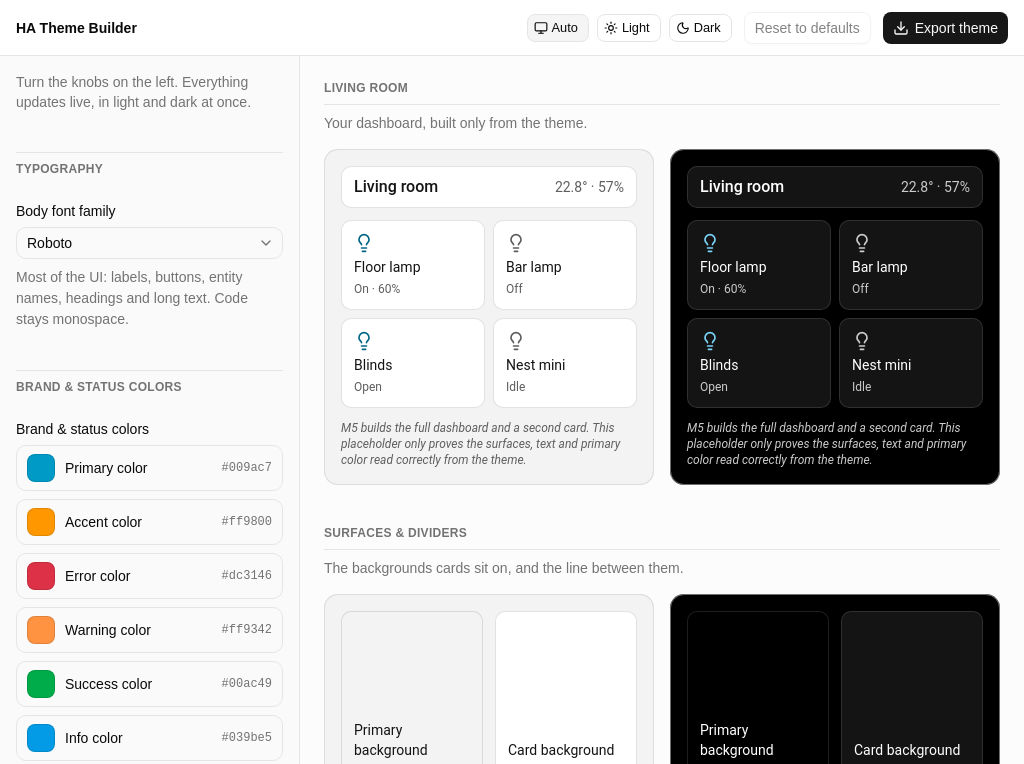
Test: App › opening the export sheet shows the default theme name
Click the button "Export theme" at point(945, 28), box [883,12,1008,44]
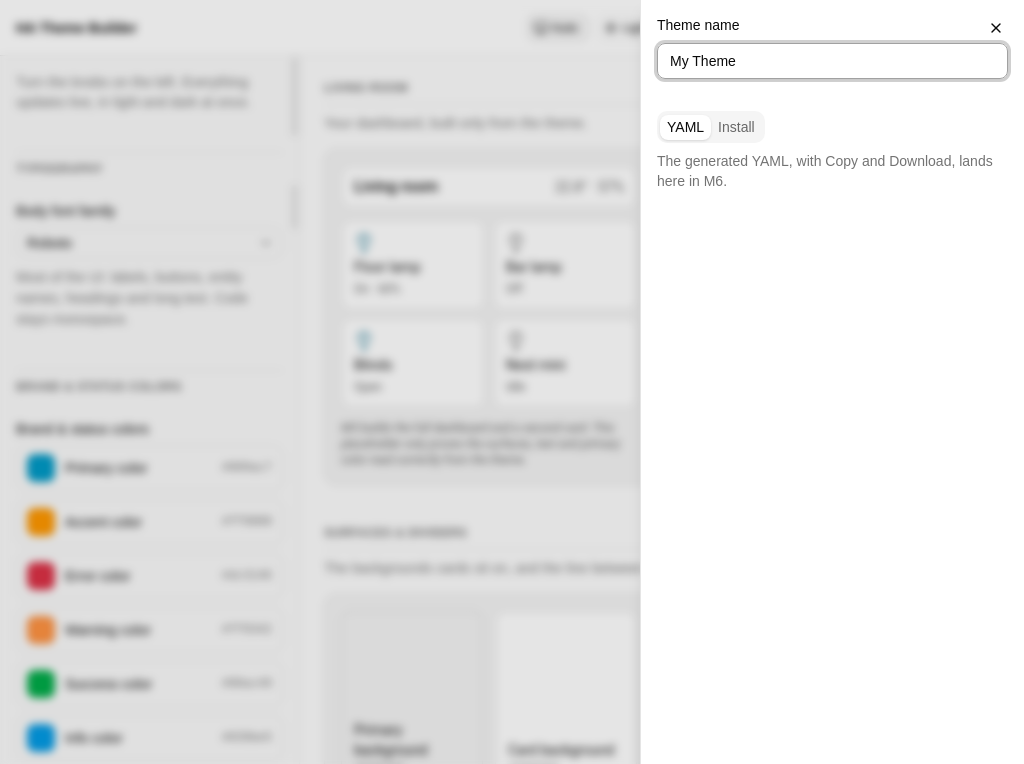
Now the field labelled "Theme name" holds "My Theme", box [657,43,1008,79]
